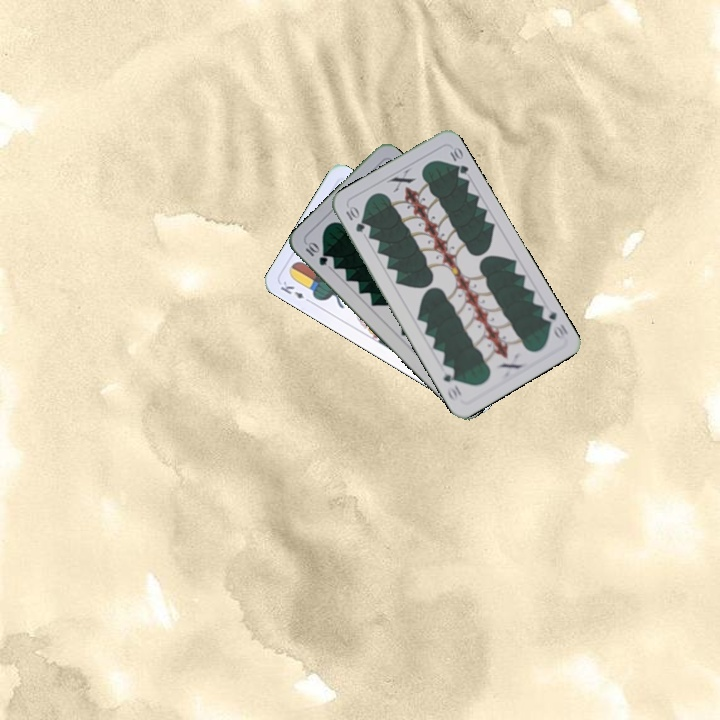EK: (276, 277, 314, 306)
G10: (537, 303, 570, 343), (301, 238, 330, 268), (342, 202, 367, 235)
